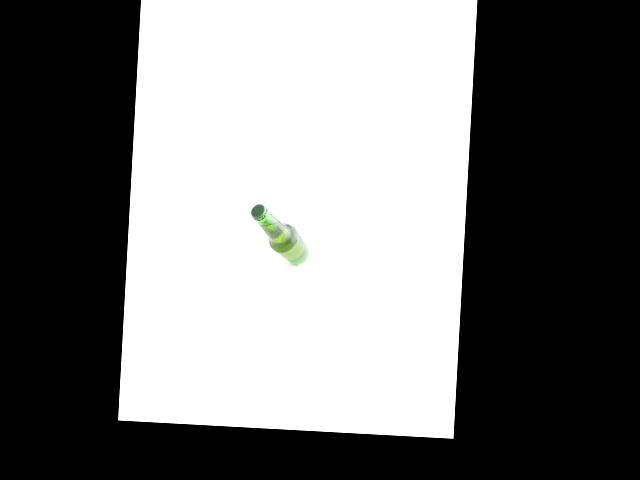beer: (247, 203, 311, 265)
